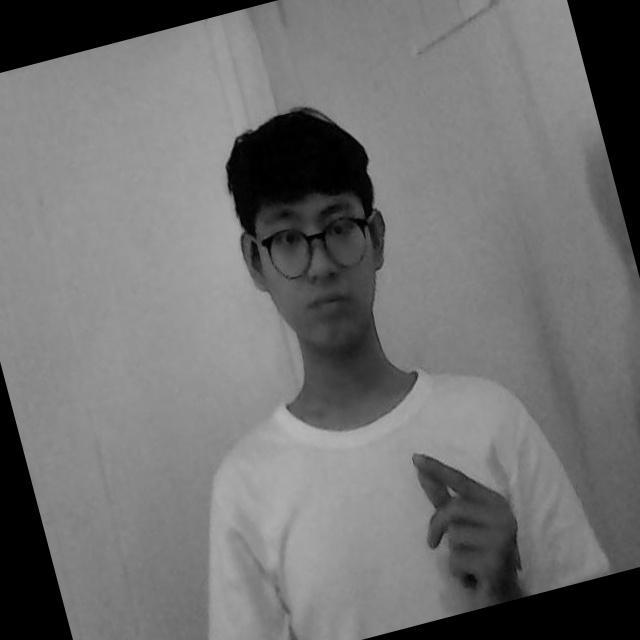R: (387, 436, 539, 606)
